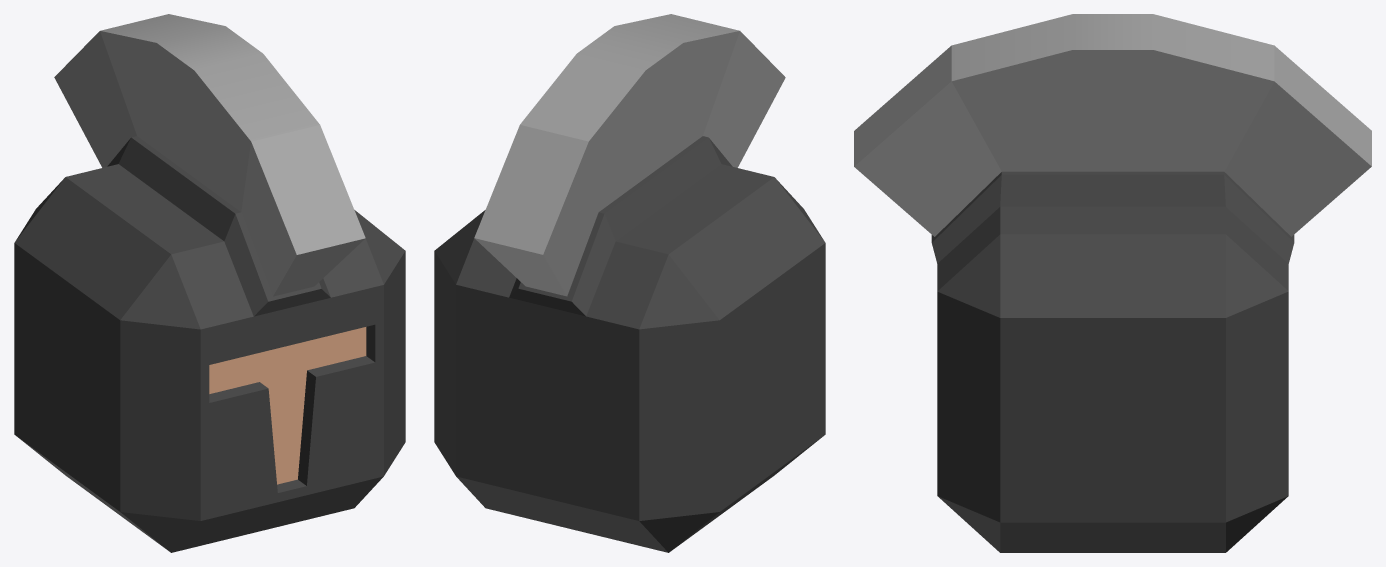
Rendered from Iron Gladiator Helmet.fbx.
3 views of the same model, side by side, from view 1: azimuth 30°, elevation 25°; view 2: azimuth 150°, elevation 25°; view 3: azimuth 270°, elevation 25° (orthographic). The views are drawn at different scales.
Parts seen in each view (by area): view 1: Box007; view 2: Box007; view 3: Box007.
Boxes of the visible parts, x1,y1,x2,y2 form: Box007: [14, 14, 405, 552]; Box007: [434, 14, 825, 552]; Box007: [854, 14, 1371, 552].
Size of the model in its own units: 14.31 by 21.27 by 21.08.
